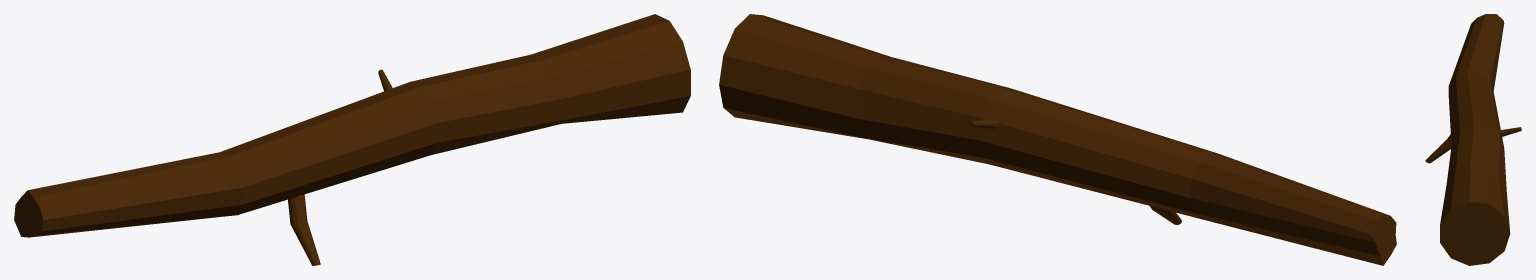
File: fallen_log_variant2.fbx
The picture shows the model from 3 angles, left to right: view 1: azimuth 30°, elevation 25°; view 2: azimuth 150°, elevation 25°; view 3: azimuth 270°, elevation 25°; orthographic projection. The views are drawn at different scales.
Parts seen in each view (by area): view 1: Cylinder, Cylinder.002; view 2: Cylinder; view 3: Cylinder, Cylinder.002, Cylinder.004.
Part boxes in pixels (x1,y1,x2,y2): Cylinder: (14,14,690,237); Cylinder.002: (288,194,320,265); Cylinder: (719,14,1396,265); Cylinder: (1440,14,1510,265); Cylinder.002: (1425,134,1451,163); Cylinder.004: (1498,127,1521,136).
Bounding box in the file's own units: 392 × 77.3 × 74.95.
